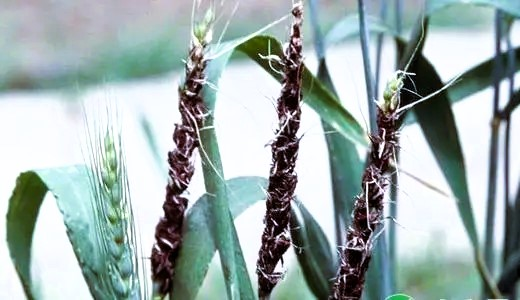Wheat Loose Smut: (343, 130, 400, 255)
